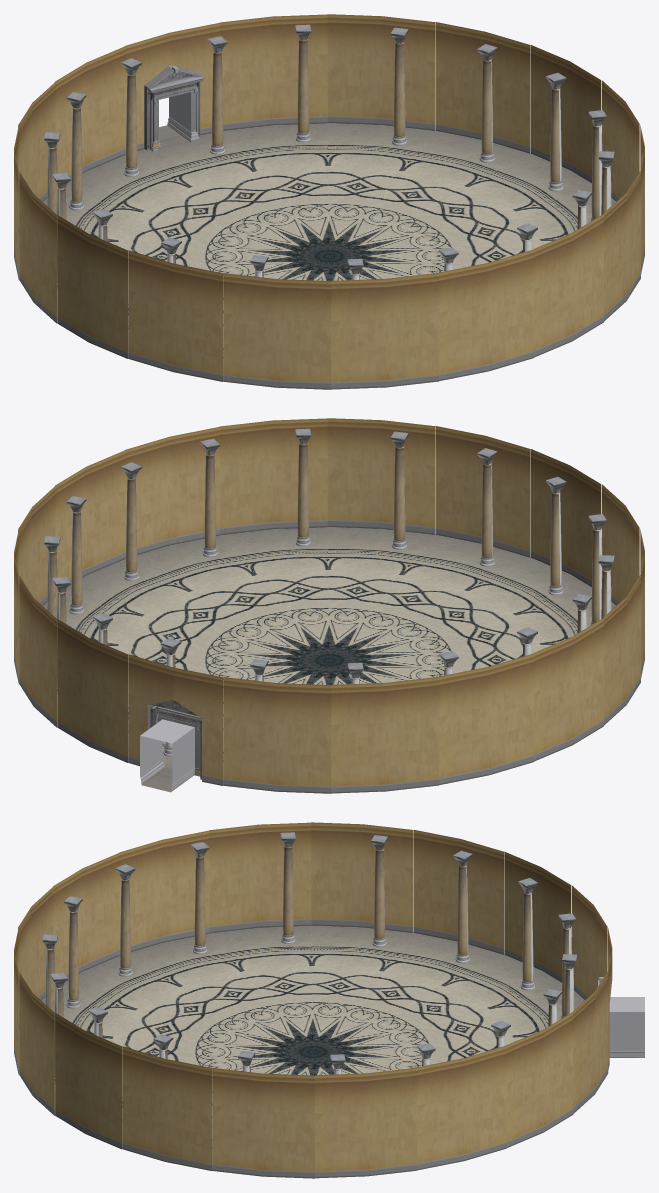
Rendered from Spawn_4.obj.
3 views of the same model, one above another, from view 1: azimuth 30°, elevation 25°; view 2: azimuth 150°, elevation 25°; view 3: azimuth 270°, elevation 25° (orthographic). The views are drawn at different scales.
Visible parts, largest first — view 1: Spawn_Wand_Standart_Segment016, Spawn_Wand_Standart_Segment017, Spawn_Wand_Standart_Segment015, object 3, Spawn_Wand_Standart_Segment001, Spawn_Wand_Standart_Segment014, Spawn_Wand_Standart_Segment008, Spawn_Wand_Standart_Segment007, Spawn_Wand_Standart_Segment006, Spawn_Wand_Standart_Segment009, Spawn_Wand_Standart_Segment013, Spawn_Wand_Standart_Segment005 (+17 smaller); view 2: Spawn_Wand_Standart_Segment010, Spawn_Wand_Standart_Segment011, Spawn_Wand_Standart_Segment009, Spawn_Wand_Standart_Segment012, Spawn_Wand_Standart_Segment013, Spawn_Wand_Standart_Segment008, Spawn_Wand_Standart_Segment002, Spawn_Wand_Standart_Segment001, object 3, Spawn_Wand_Standart_Segment003, Spawn_Wand_Standart_Segment007, Spawn_Wand_Standart_Segment017 (+17 smaller); view 3: Spawn_Wand_Standart_Segment005, Spawn_Wand_Standart_Segment004, Spawn_Wand_Standart_Segment003, Spawn_Wand_Standart_Segment006, Spawn_Wand_Standart_Segment007, Spawn_Wand_Standart_Segment002, Spawn_Wand_Standart_Segment013, Spawn_Wand_Standart_Segment014, Spawn_Wand_Standart_Segment012, Spawn_Wand_Standart_Segment015, Spawn_Wand_Standart_Segment001, Spawn_Wand_Standart_Segment011 (+17 smaller).
Part boxes in pixels (box(x1,y1,x2,y2)): Spawn_Wand_Standart_Segment016: box(327, 14, 435, 255); Spawn_Wand_Standart_Segment017: box(220, 14, 329, 255); Spawn_Wand_Standart_Segment015: box(330, 22, 530, 255); object 3: box(125, 23, 328, 255); Spawn_Wand_Standart_Segment001: box(55, 46, 327, 255); Spawn_Wand_Standart_Segment014: box(331, 45, 601, 255); Spawn_Wand_Standart_Segment008: box(329, 257, 439, 389); Spawn_Wand_Standart_Segment007: box(223, 256, 331, 389); Spawn_Wand_Standart_Segment006: box(128, 250, 328, 381); Spawn_Wand_Standart_Segment009: box(330, 249, 533, 380); Spawn_Wand_Standart_Segment013: box(330, 80, 639, 256); Spawn_Wand_Standart_Segment005: box(57, 215, 328, 358); Spawn_Wand_Standart_Segment010: box(327, 418, 435, 659); Spawn_Wand_Standart_Segment011: box(220, 418, 329, 659); Spawn_Wand_Standart_Segment009: box(330, 426, 530, 659); Spawn_Wand_Standart_Segment012: box(125, 427, 328, 659); Spawn_Wand_Standart_Segment013: box(55, 450, 327, 659); Spawn_Wand_Standart_Segment008: box(331, 449, 601, 659); Spawn_Wand_Standart_Segment002: box(329, 661, 439, 793); Spawn_Wand_Standart_Segment001: box(223, 660, 331, 793); object 3: box(128, 654, 328, 792); Spawn_Wand_Standart_Segment003: box(330, 653, 533, 784); Spawn_Wand_Standart_Segment007: box(330, 484, 639, 660); Spawn_Wand_Standart_Segment017: box(57, 619, 328, 762); Spawn_Wand_Standart_Segment005: box(209, 822, 313, 1051); Spawn_Wand_Standart_Segment004: box(311, 822, 413, 1051); Spawn_Wand_Standart_Segment003: box(313, 830, 503, 1051); Spawn_Wand_Standart_Segment006: box(119, 830, 312, 1051); Spawn_Wand_Standart_Segment007: box(53, 853, 311, 1051); Spawn_Wand_Standart_Segment002: box(314, 851, 570, 1051); Spawn_Wand_Standart_Segment013: box(212, 1052, 314, 1178); Spawn_Wand_Standart_Segment014: box(313, 1052, 417, 1178); Spawn_Wand_Standart_Segment012: box(122, 1046, 312, 1171); Spawn_Wand_Standart_Segment015: box(314, 1045, 506, 1170); Spawn_Wand_Standart_Segment001: box(314, 885, 607, 1051); Spawn_Wand_Standart_Segment011: box(55, 1013, 312, 1149).
Size of the model in its own units: 14.38 by 2.8 by 15.14.
